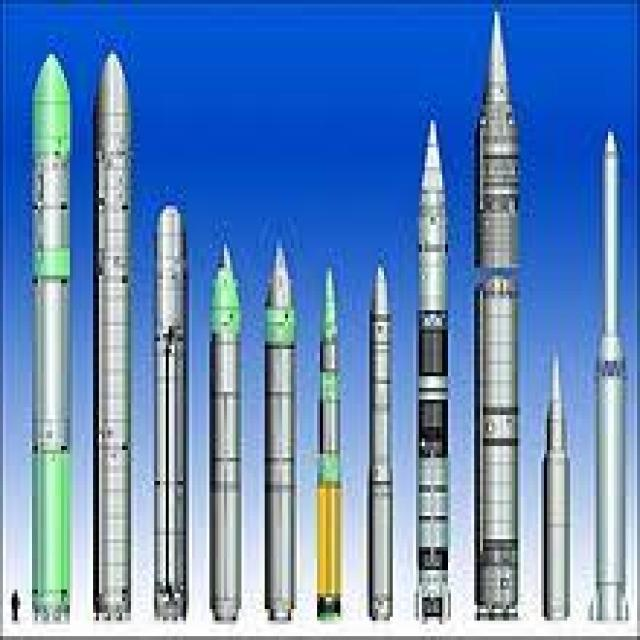Missile: (15, 27, 78, 626), (475, 0, 528, 626), (91, 39, 137, 621), (414, 117, 458, 630), (148, 198, 198, 621), (593, 118, 631, 630), (535, 317, 580, 633), (365, 263, 393, 629)
